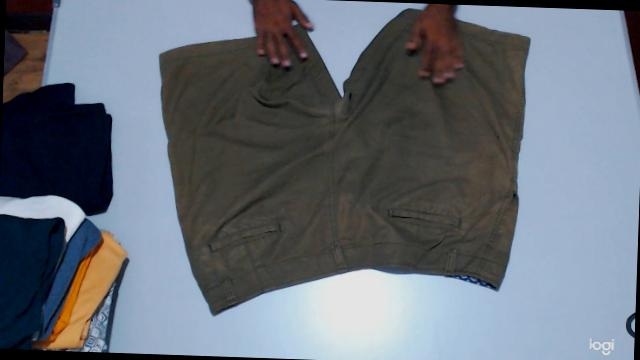new-garment: (159, 9, 529, 314)
